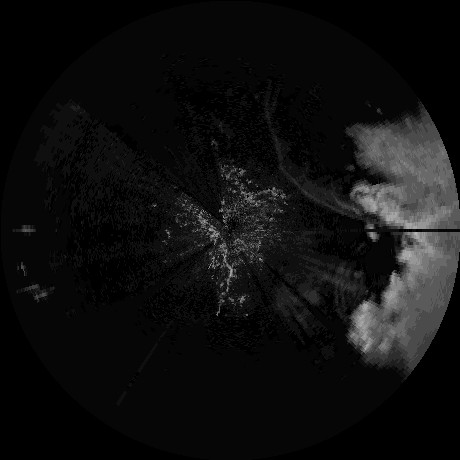frontgust: (277, 139, 373, 218)
